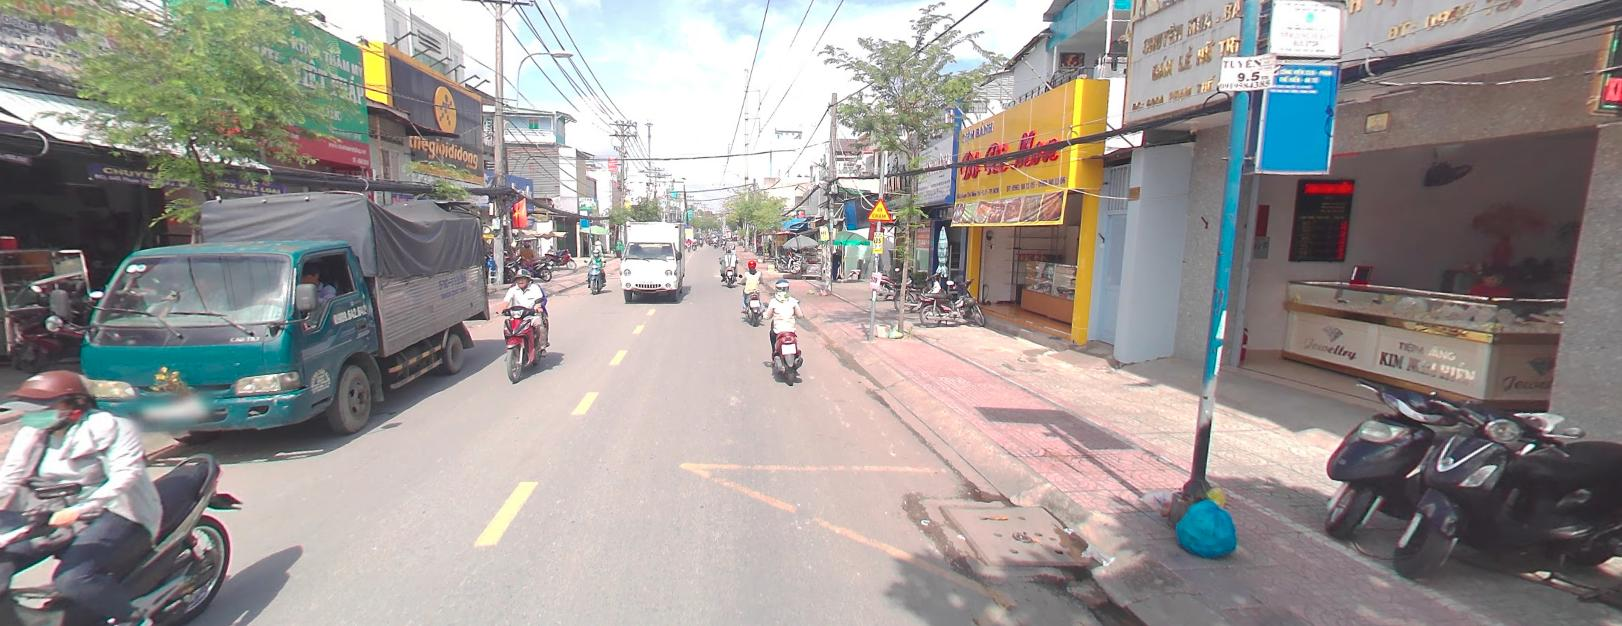Nguy hiem: (866, 197, 891, 220)
